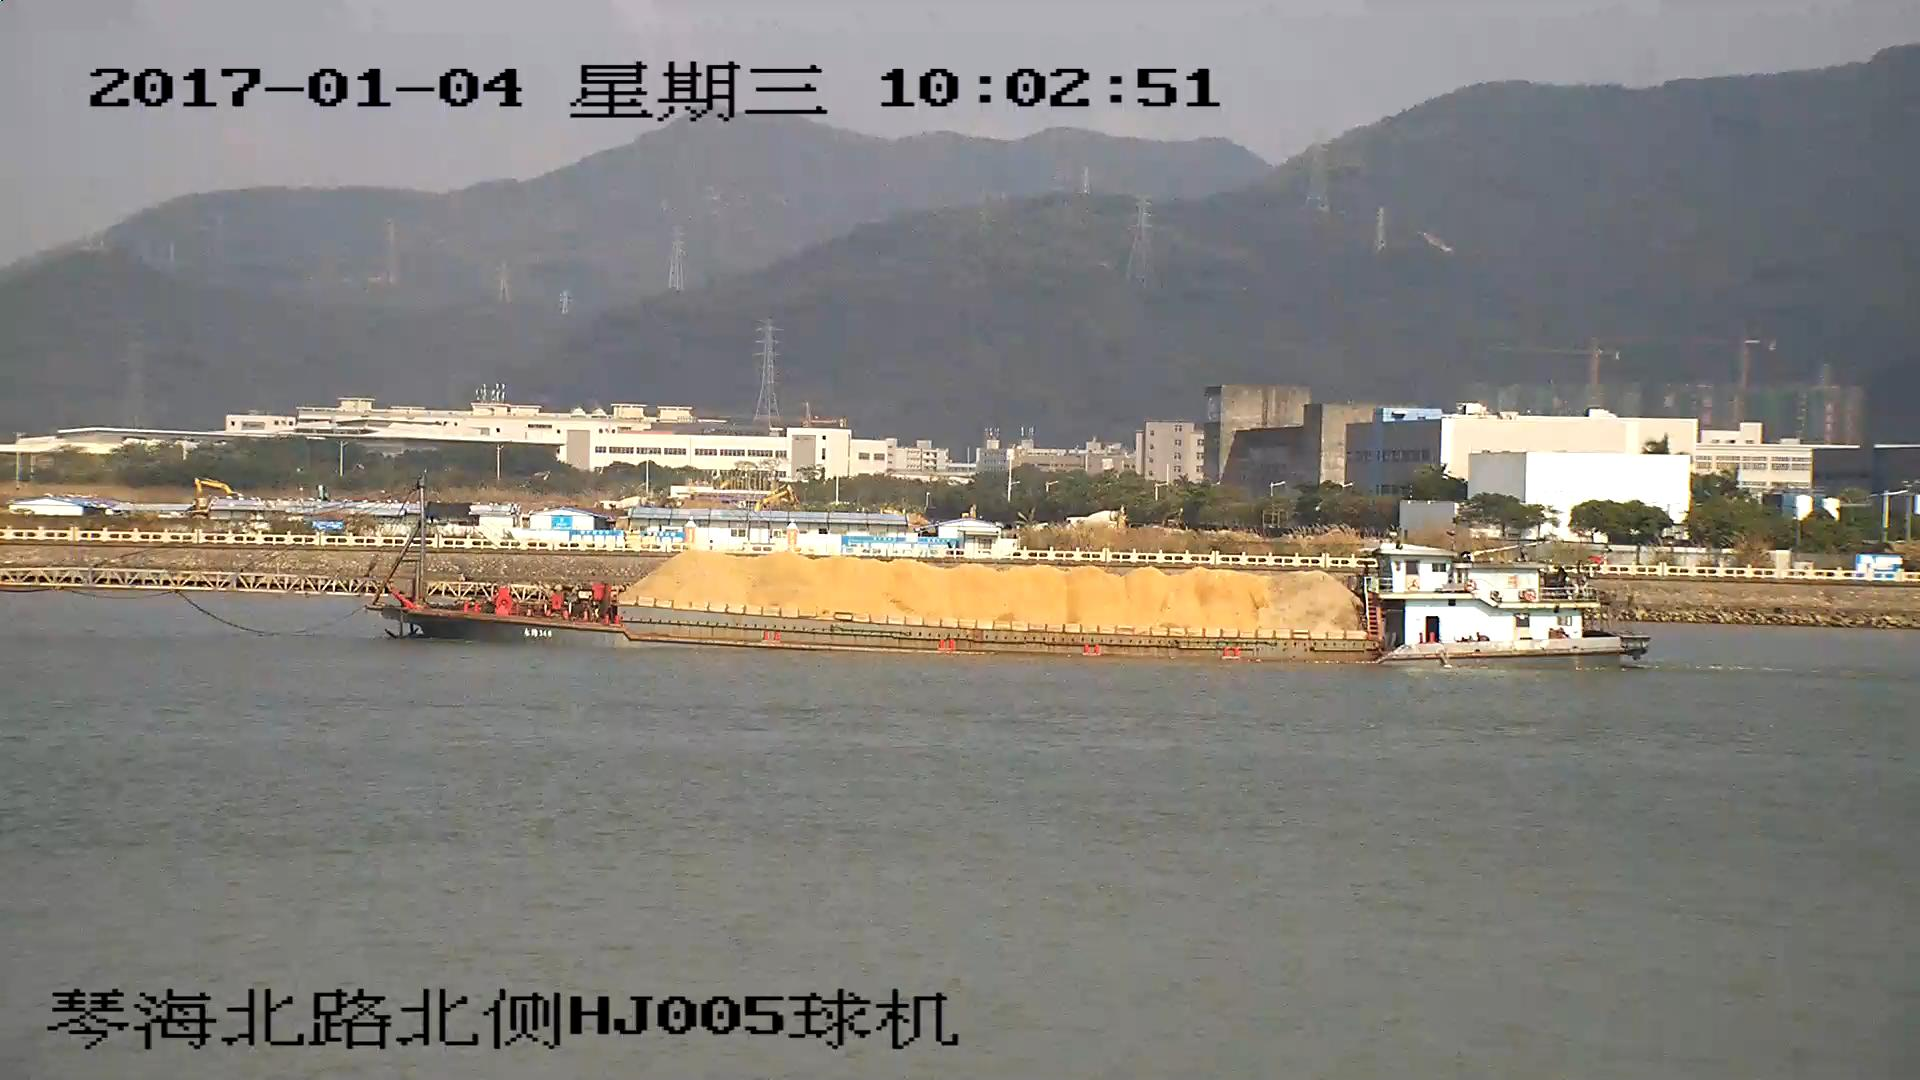ore carrier: (1, 478, 1646, 666)
